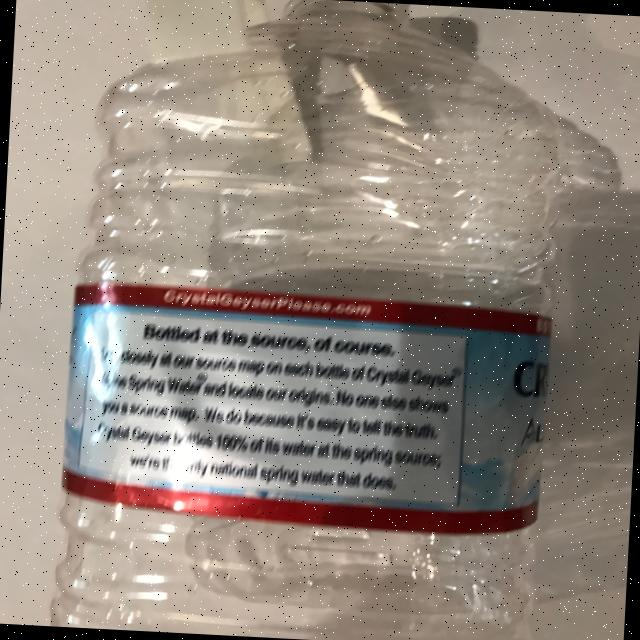plastic: (19, 0, 581, 640)
